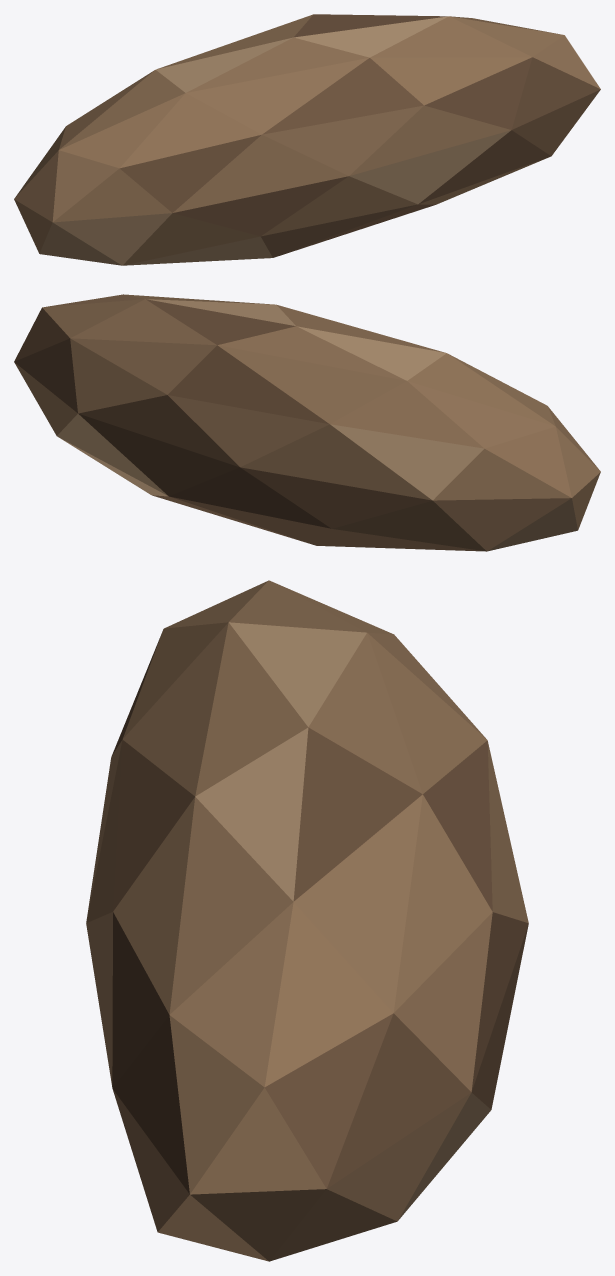
File: Eros.glb
3 views of the same model, one above another, from view 1: azimuth 30°, elevation 25°; view 2: azimuth 150°, elevation 25°; view 3: azimuth 270°, elevation 25° (orthographic). The views are drawn at different scales.
Parts seen in each view (by area): view 1: Eros; view 2: Eros; view 3: Eros.
Boxes of the visible parts, bbox=[...] form: Eros: bbox=[14, 14, 600, 265]; Eros: bbox=[14, 294, 600, 551]; Eros: bbox=[86, 580, 528, 1261].
Bounding box in the file's own units: 0.5654 × 0.1976 × 0.1961.
